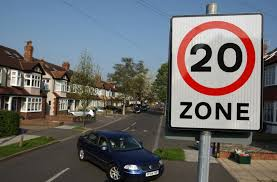sp20: (173, 19, 259, 99)
